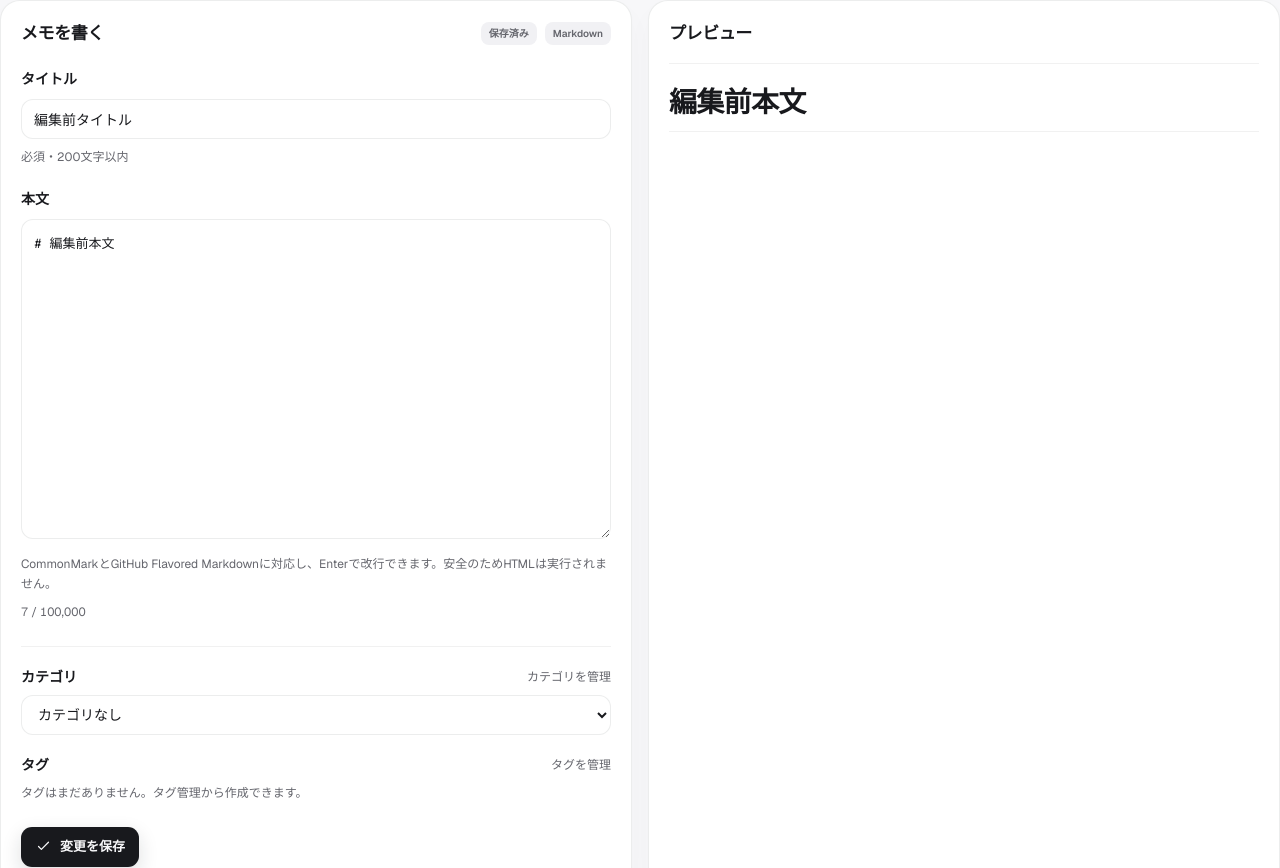
Scenario: 競合時は上書きせず入力のコピーと再読み込みを案内する
Replace the text in the field labelled "タイトル" with "競合する入力". click: {"x": 316, "y": 118}
box: x1=21 y1=98 x2=611 y2=138
Wait 1000 ms
(page scrolled)
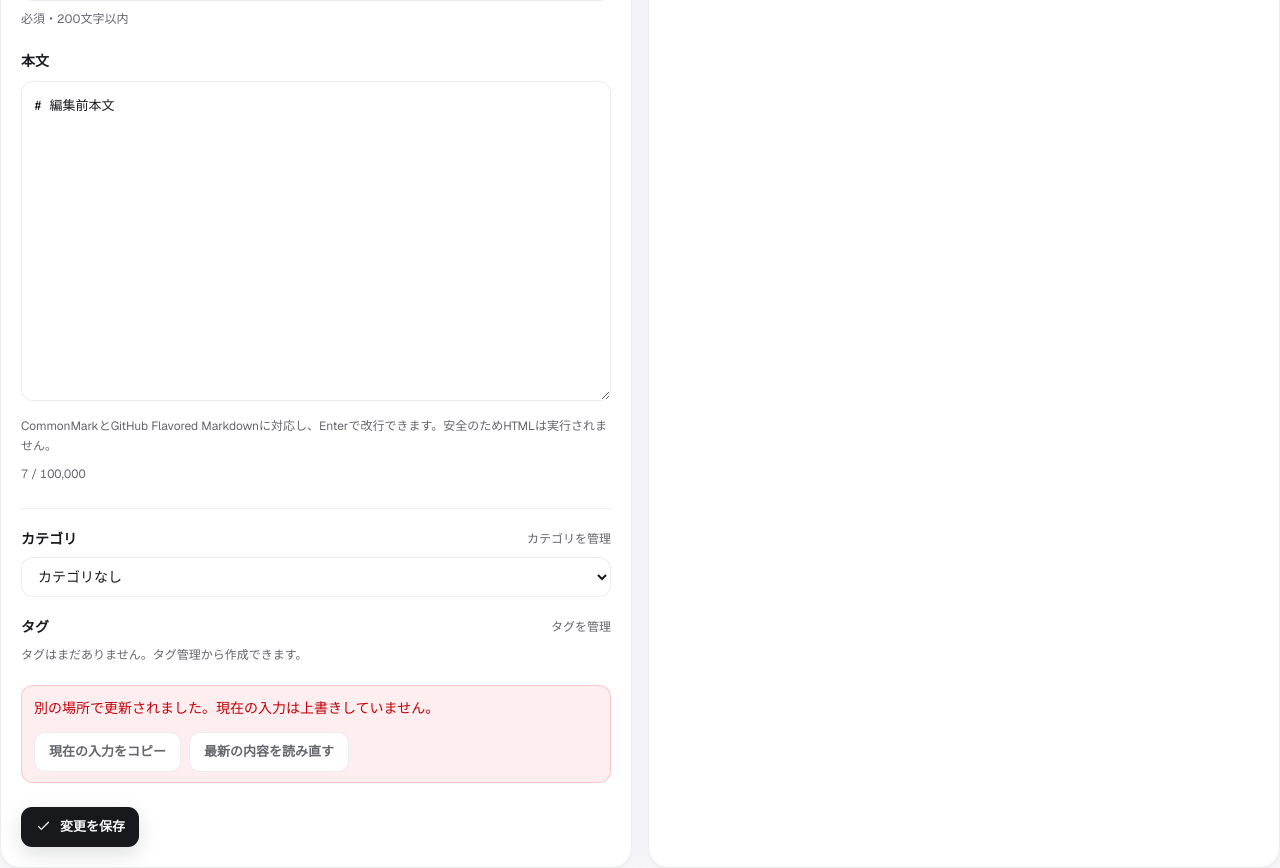
Check: the button "現在の入力をコピー" is shown, box x1=34 y1=732 x2=181 y2=772
Check: the button "最新の内容を読み直す" is shown, box x1=189 y1=732 x2=349 y2=772
